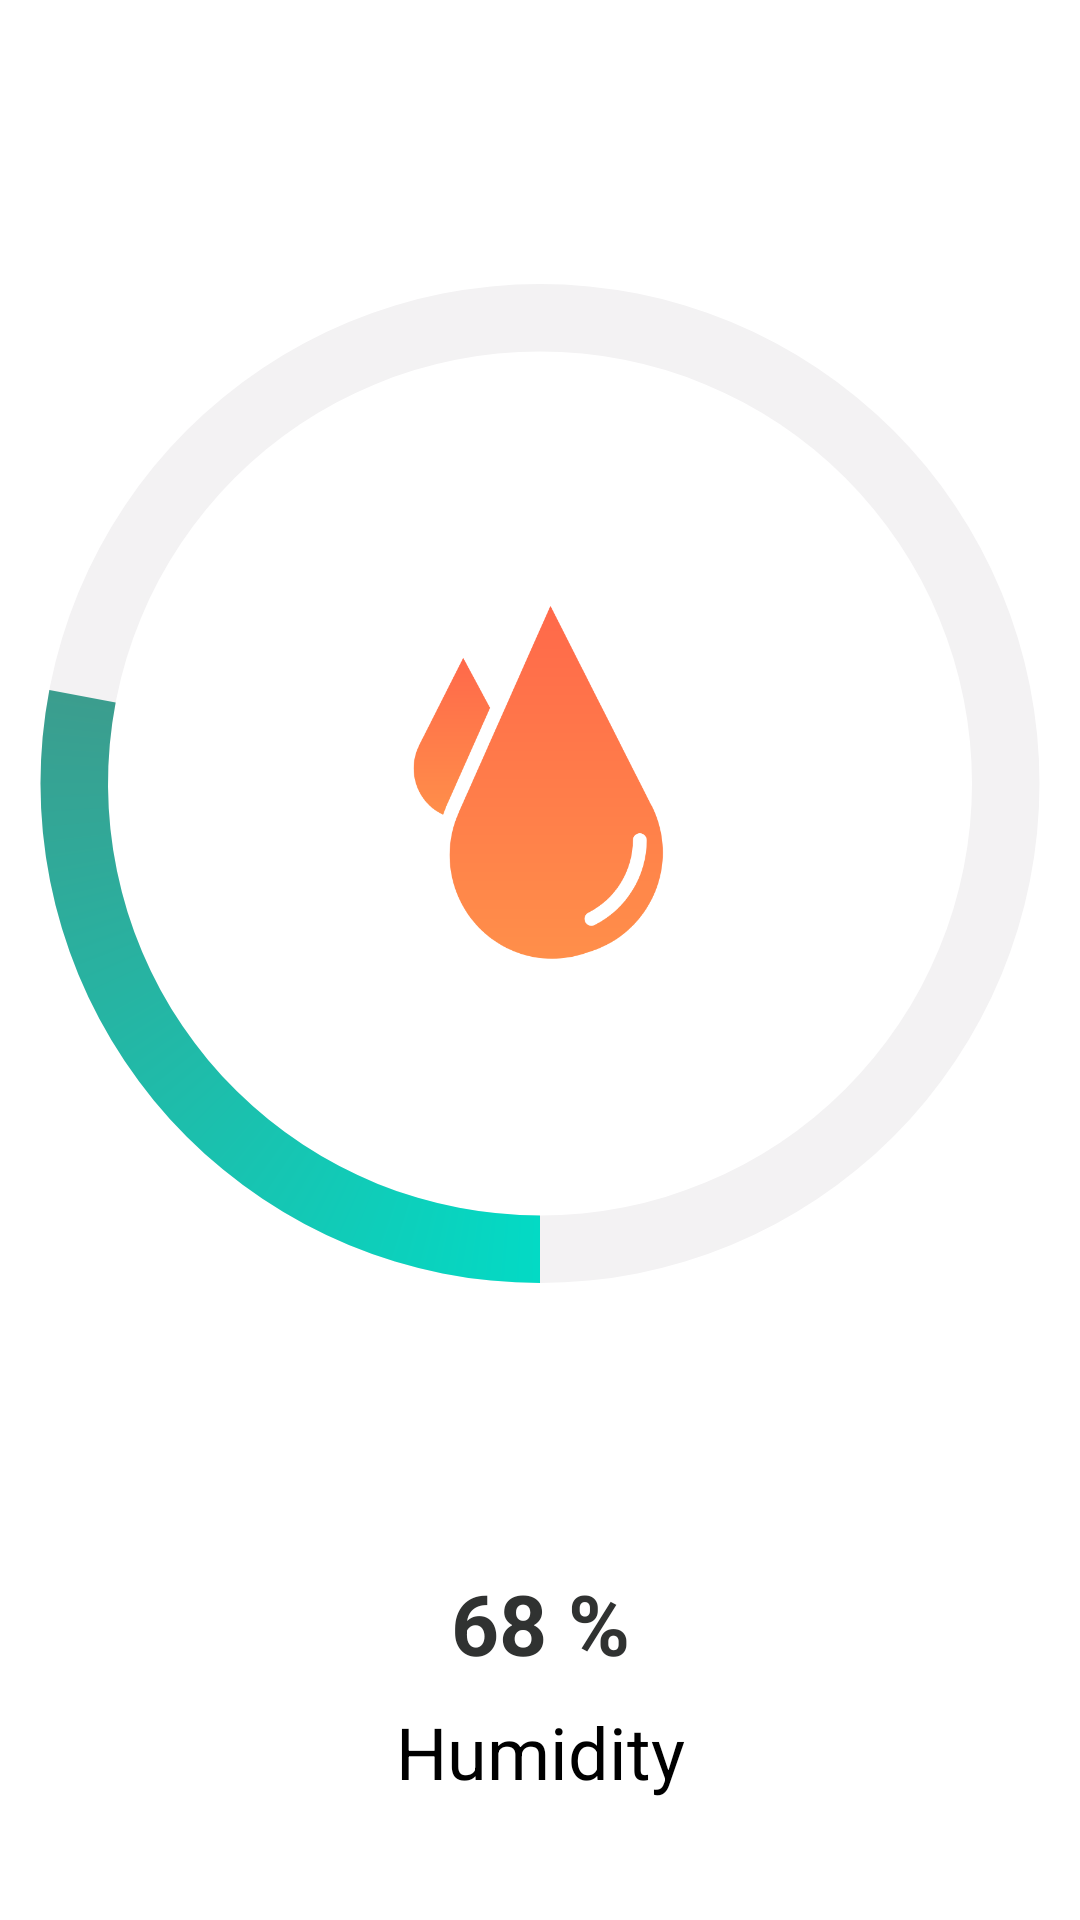

Icons on this 1080w x 1920h Android screen, each with the point to tap as (x=x, y=y):
humidity: (x=538, y=782)
